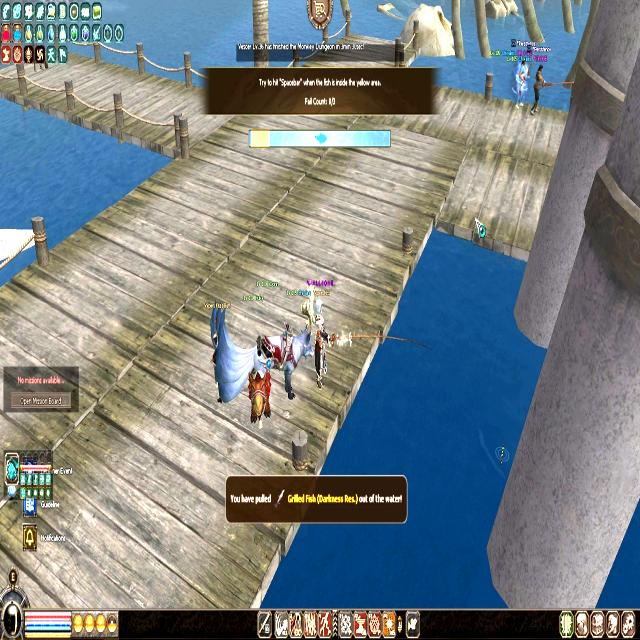fishes: (314, 132, 328, 144)
